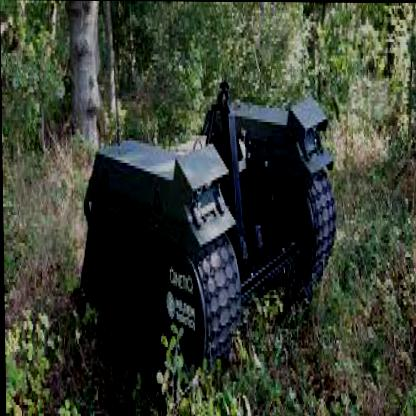UGV: (77, 80, 338, 395)
